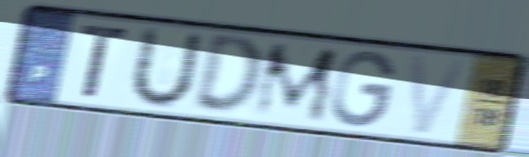D: (189, 34, 266, 119)
G: (329, 48, 399, 130)
M: (250, 42, 342, 125)
T: (77, 22, 133, 101)
U: (124, 23, 207, 111)
V: (406, 51, 473, 138)
